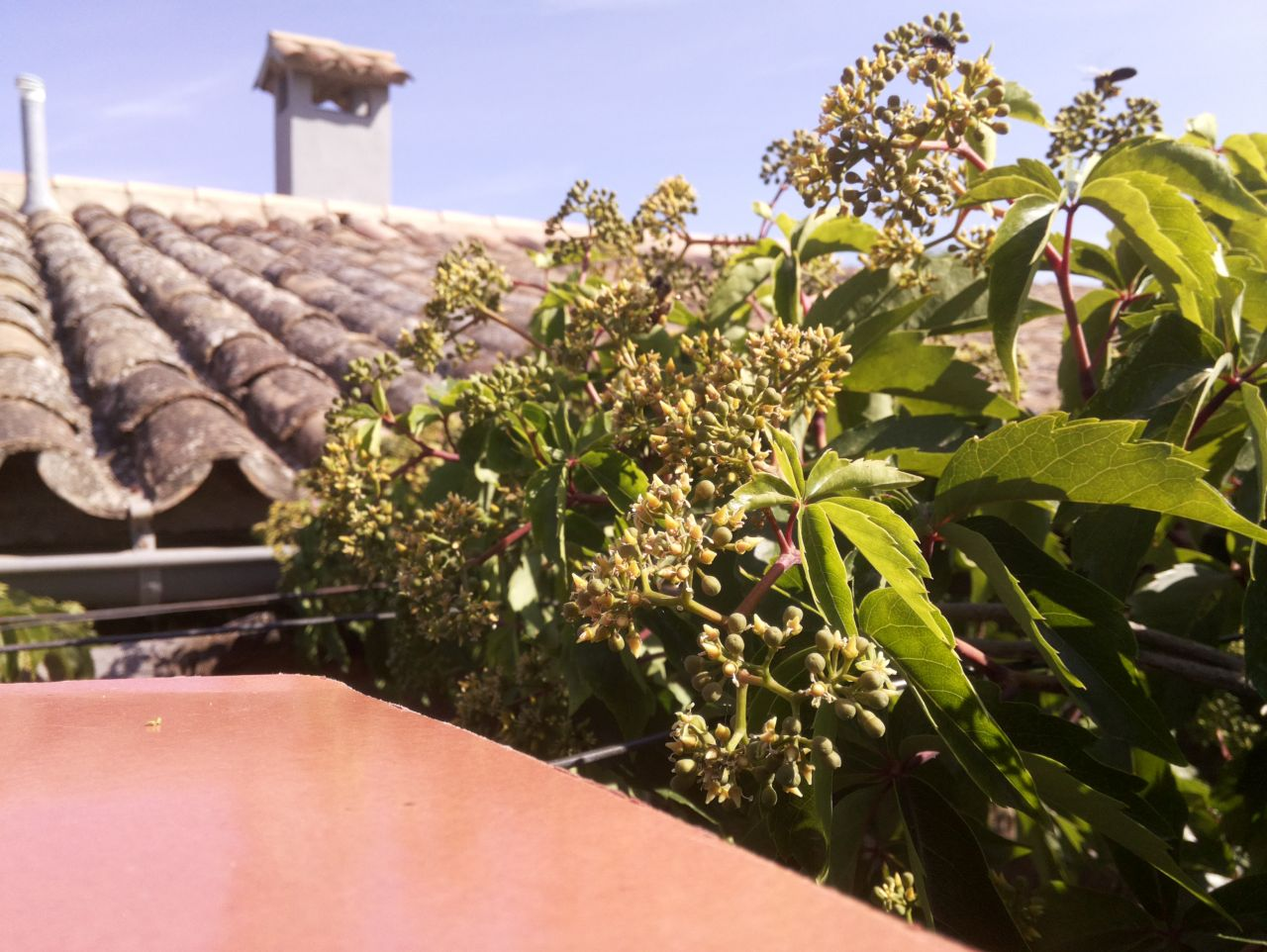Apis mellifera: (1064, 51, 1155, 116), (649, 266, 686, 316)
Fly: (901, 33, 959, 64)
